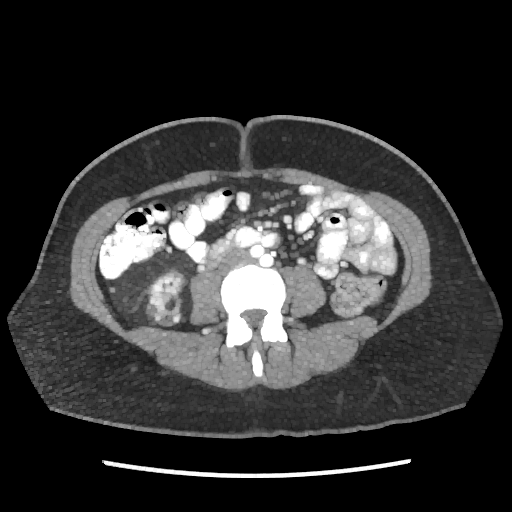Lesion: (105, 255, 195, 330)
